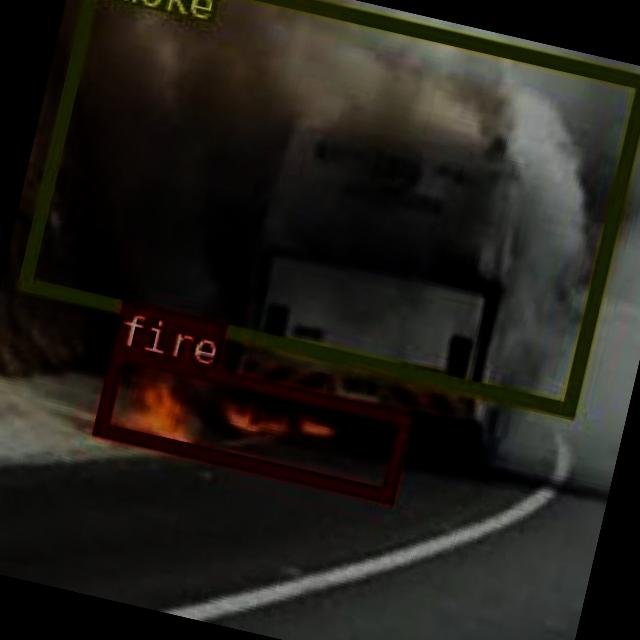fire: (90, 344, 411, 502)
smoke: (15, 0, 640, 414)
